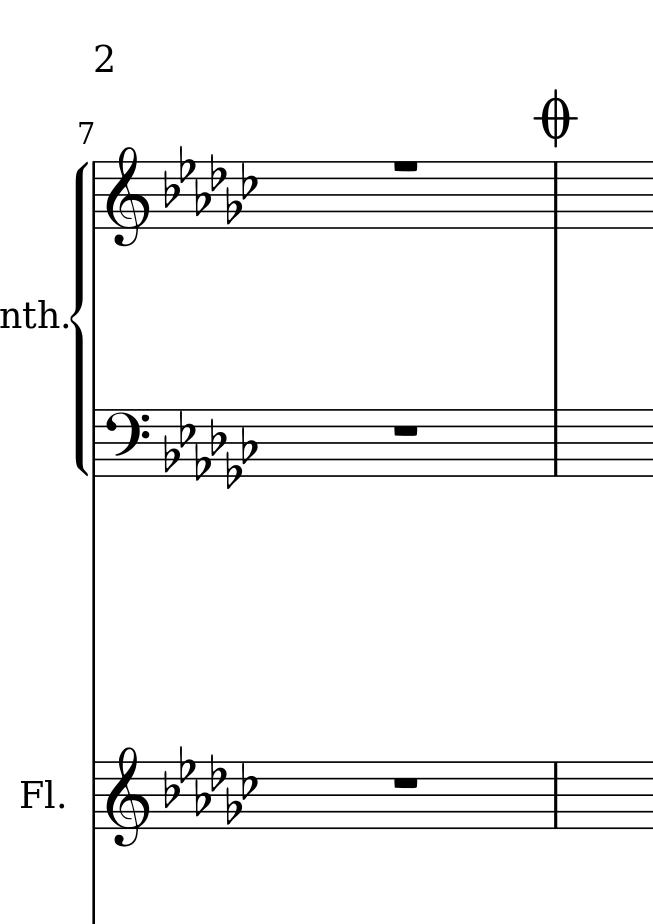2: (90, 41, 114, 74)
7: (78, 117, 95, 145)
Brace: (70, 161, 90, 476)
Coda: (534, 86, 581, 145)
Fclef: (104, 408, 151, 454)
Fl: (18, 777, 54, 812)
G_F: (160, 408, 257, 490), (162, 142, 257, 223), (162, 746, 251, 824)
Gclef: (104, 745, 156, 851), (105, 146, 152, 249)
Rests1: (389, 775, 431, 794), (392, 421, 421, 441), (389, 157, 421, 175)
Single_barline: (548, 409, 565, 477), (547, 162, 563, 227), (87, 161, 102, 229), (87, 760, 102, 827), (88, 408, 102, 476), (548, 763, 563, 824)
